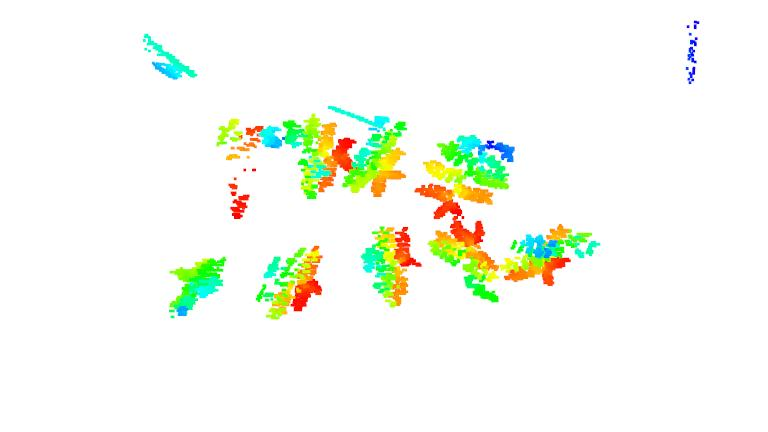chickpea: (413, 134, 518, 219), (215, 115, 283, 221), (279, 112, 353, 199), (429, 218, 504, 303), (507, 223, 600, 289), (254, 242, 326, 323), (343, 114, 411, 199), (361, 224, 414, 308), (165, 254, 229, 320)
